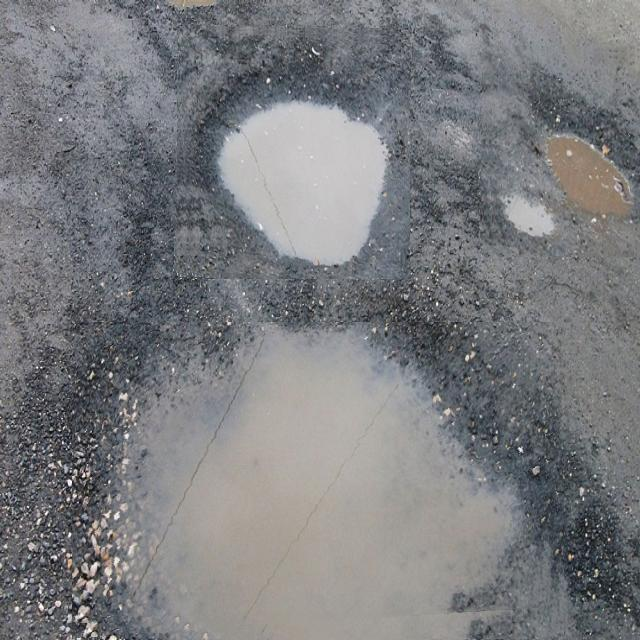Pothole: (72, 322, 568, 640), (175, 26, 410, 279), (481, 46, 640, 257)
